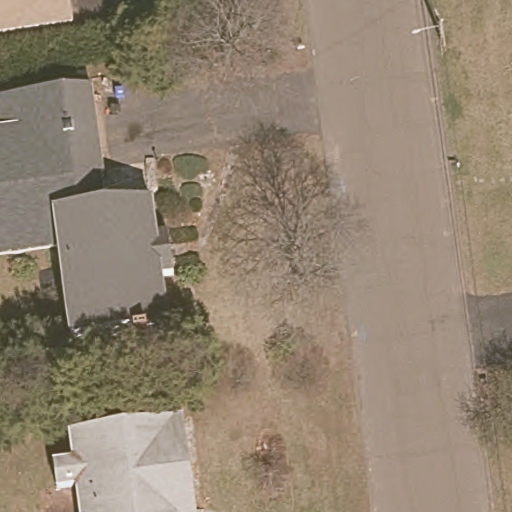DT: (411, 6, 446, 55)
